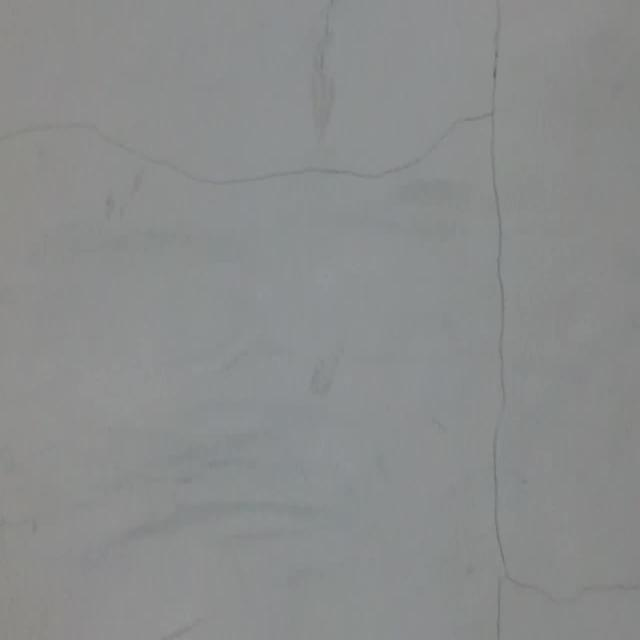Crack: (2, 102, 468, 204), (469, 0, 524, 637)
